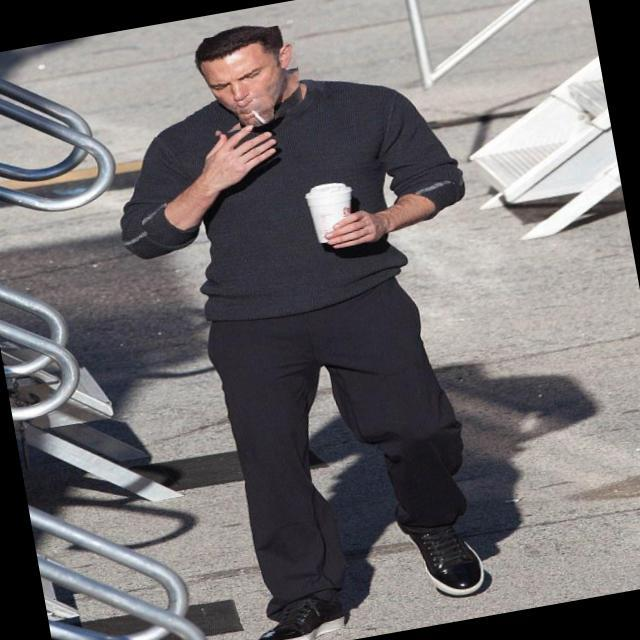cigarette: (236, 95, 278, 134)
